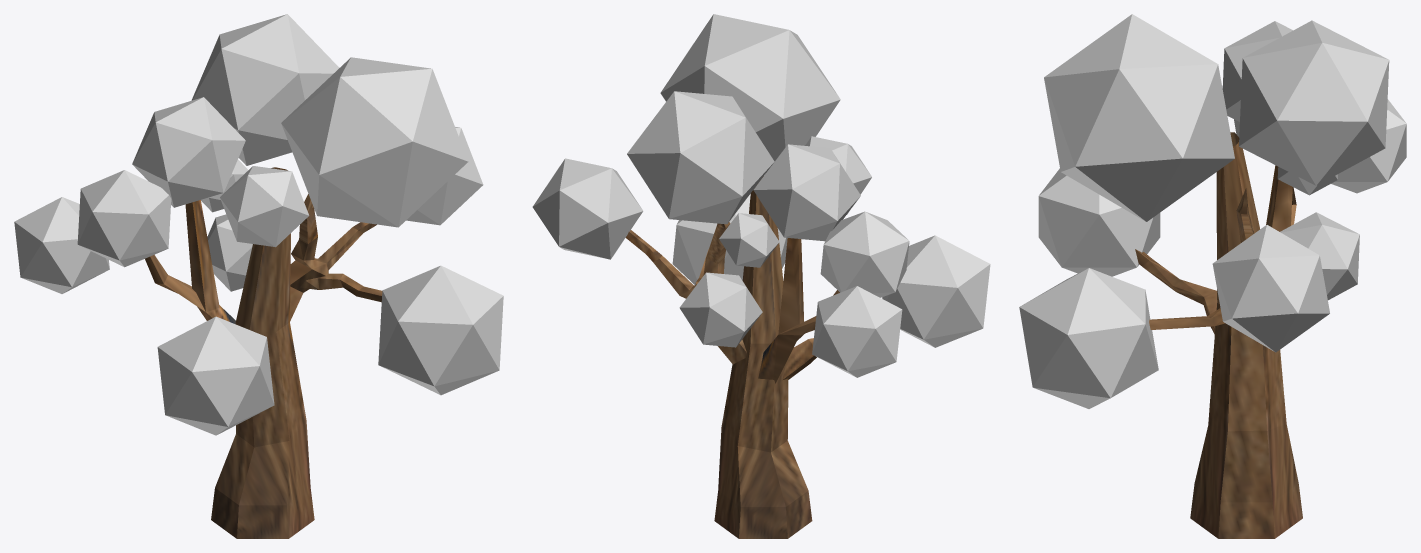
The picture shows the model from 3 angles, left to right: view 1: azimuth 30°, elevation 25°; view 2: azimuth 150°, elevation 25°; view 3: azimuth 270°, elevation 25°; orthographic projection. The views are drawn at different scales.
Visible parts, largest first — view 1: crown, trunk; view 2: crown, trunk; view 3: crown, trunk.
Boxes of the visible parts, left/top/right/bottom form: crown: left=14, top=14, right=503, bottom=435; trunk: left=145, top=167, right=382, bottom=538; crown: left=532, top=14, right=990, bottom=377; trunk: left=625, top=176, right=839, bottom=538; crown: left=1019, top=14, right=1406, bottom=408; trunk: left=1135, top=132, right=1302, bottom=538.
Bounding box in the file's own units: 14.42 × 15.88 × 10.77.
